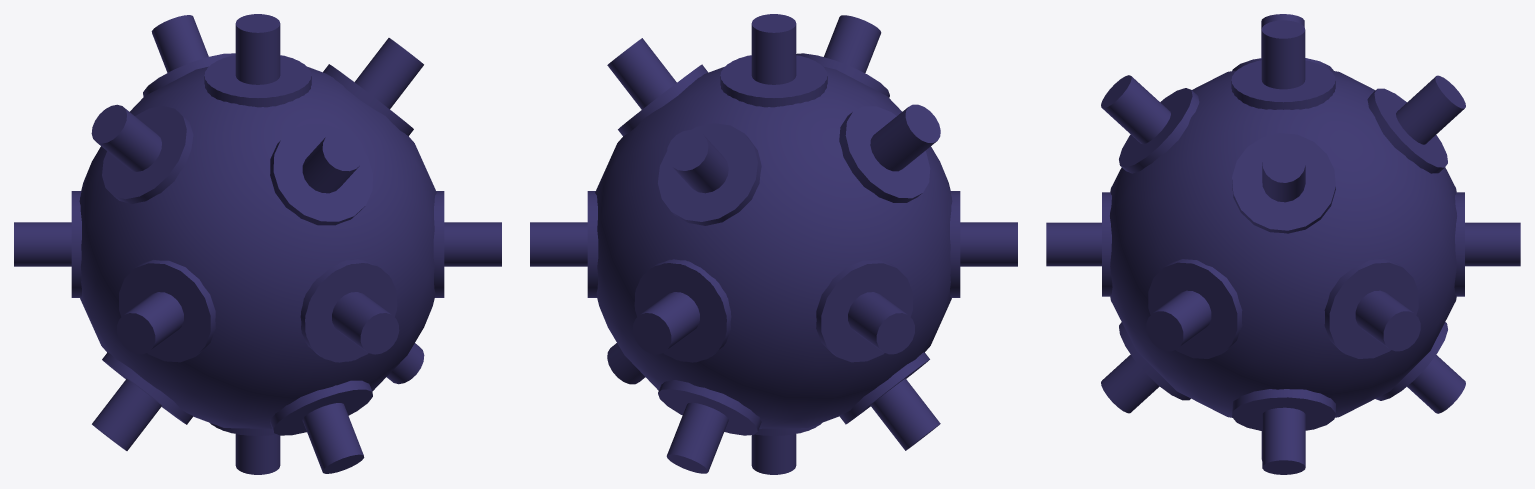
File: SM_Obstacle_08.fbx
3 renders of one model, left to right at view 1: azimuth 30°, elevation 25°; view 2: azimuth 150°, elevation 25°; view 3: azimuth 270°, elevation 25°, orthographic. The views are drawn at different scales.
Parts seen in each view (by area): view 1: Icosphere; view 2: Icosphere; view 3: Icosphere.
Boxes of the visible parts, x1,y1,x2,y2 form: Icosphere: (14,14,501,474); Icosphere: (530,14,1017,474); Icosphere: (1046,14,1520,474).
Bounding box in the file's own units: 3.61 × 3.97 × 3.97.
